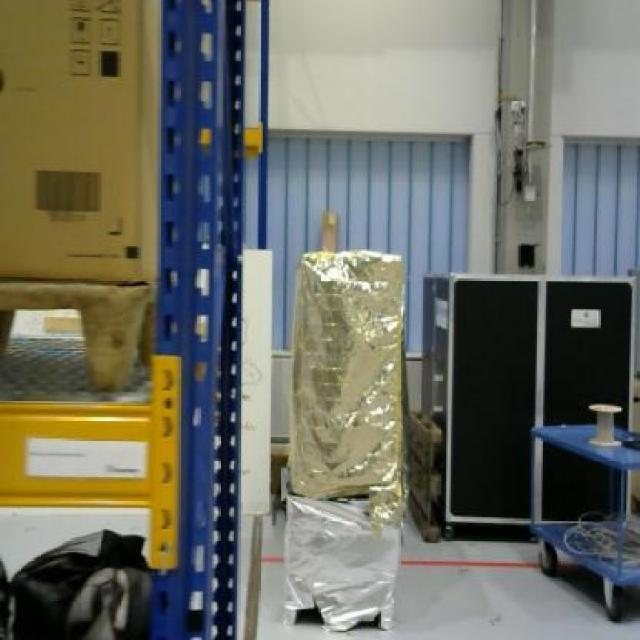box: (0, 0, 158, 282)
